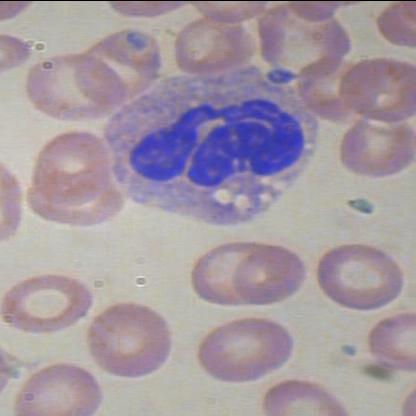RBC: (86, 295, 188, 381), (251, 1, 361, 79), (20, 48, 124, 122), (306, 240, 412, 312), (1, 266, 100, 342), (197, 314, 302, 385), (32, 128, 118, 212), (172, 9, 260, 80), (335, 109, 415, 181), (13, 356, 106, 416), (336, 54, 415, 124), (22, 176, 126, 228), (237, 244, 314, 308), (256, 374, 358, 416), (364, 310, 415, 378)
WBC: (94, 63, 319, 235)
